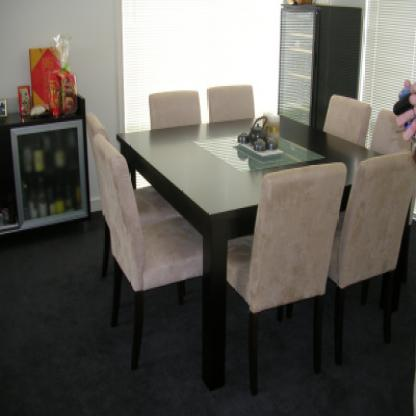chair: (226, 160, 347, 396), (91, 132, 203, 372), (327, 150, 415, 363), (84, 111, 182, 279), (322, 93, 372, 146), (146, 89, 202, 130), (368, 107, 415, 155), (205, 84, 256, 124)
diningtable: (115, 112, 415, 391)
